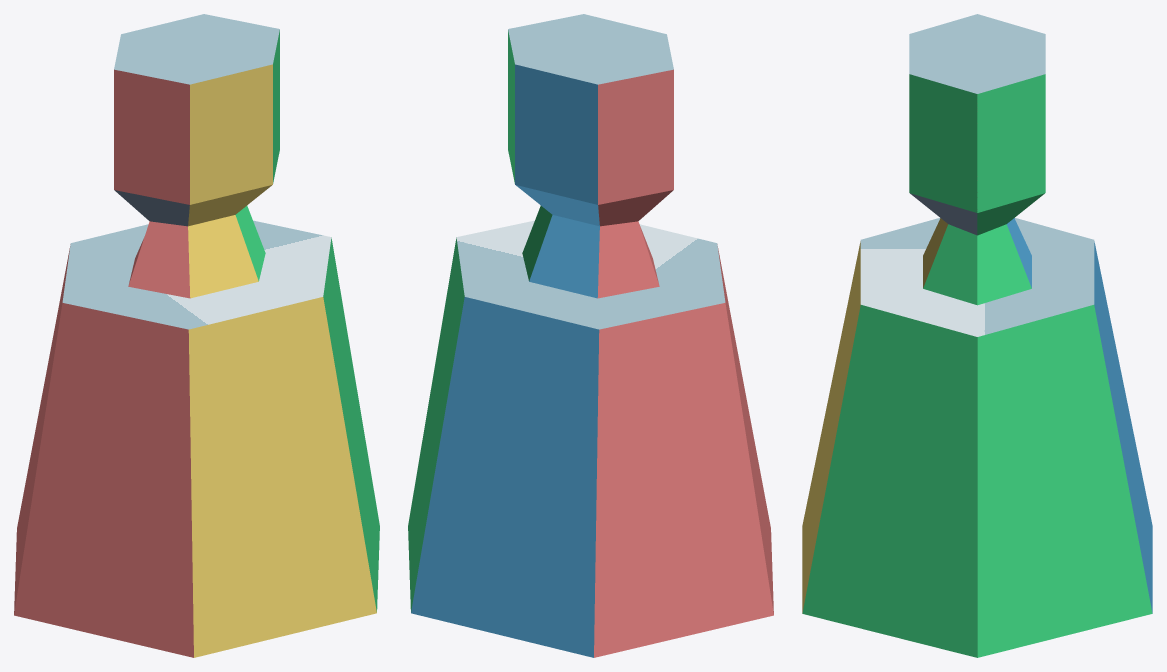
File: weight_m.obj
The picture shows the model from 3 angles, left to right: view 1: azimuth 30°, elevation 25°; view 2: azimuth 150°, elevation 25°; view 3: azimuth 270°, elevation 25°; orthographic projection.
Visible parts, largest first — view 1: cylinder; view 2: cylinder; view 3: cylinder.
Part boxes in pixels (x1,y1,x2,y2): cylinder: (14,14,379,657); cylinder: (408,14,773,657); cylinder: (802,14,1152,657).
Bounding box in the file's own units: 0.1193 × 0.1625 × 0.1.
Materials: 1 (1 with a texture image).
